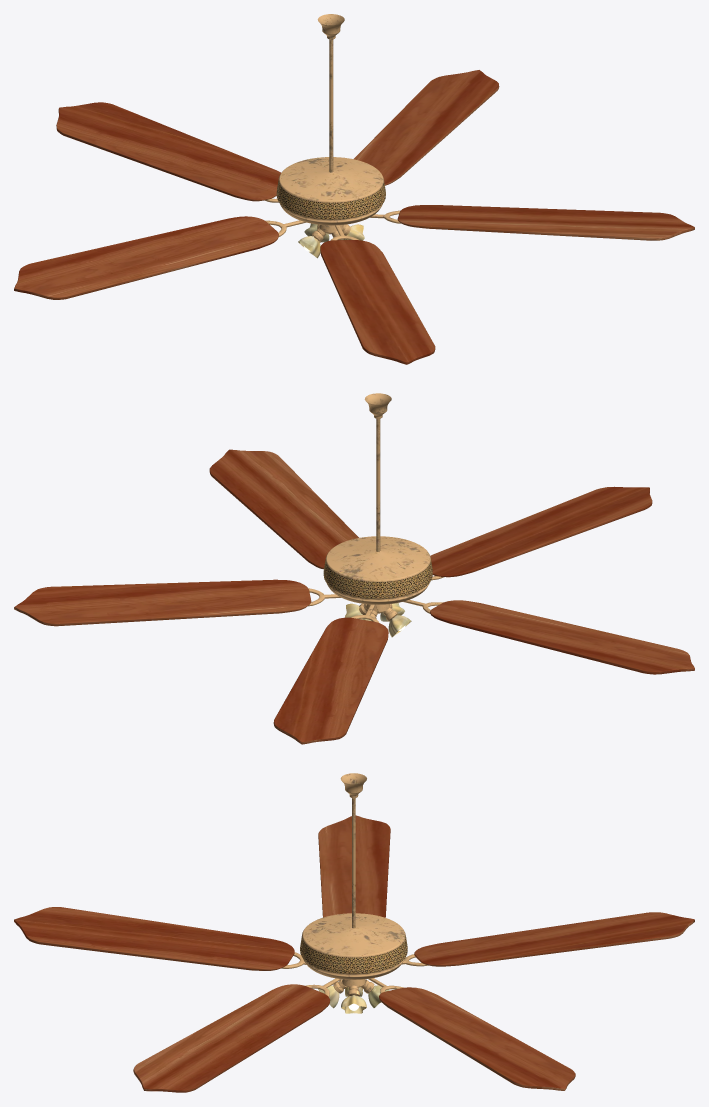
The model's file is ventilador.glb.
3 views of the same model, one above another, from view 1: azimuth 30°, elevation 25°; view 2: azimuth 150°, elevation 25°; view 3: azimuth 270°, elevation 25° (orthographic). The views are drawn at different scales.
Visible parts, largest first — view 1: polySurface3_lambert1_0, polySurface23, veentilador_techopCylinder28, BOBILLASpolySurface33; view 2: polySurface3_lambert1_0, polySurface23, veentilador_techopCylinder28, BOBILLASpolySurface33; view 3: polySurface3_lambert1_0, polySurface23, BOBILLASpolySurface33, veentilador_techopCylinder28.
Part boxes in pixels (x1=…): polySurface3_lambert1_0: x1=14, y1=70, x2=694, y2=364; polySurface23: x1=276, y1=157, x2=385, y2=225; veentilador_techopCylinder28: x1=317, y1=14, x2=344, y2=172; BOBILLASpolySurface33: x1=298, y1=223, x2=364, y2=258; polySurface3_lambert1_0: x1=14, y1=449, x2=694, y2=744; polySurface23: x1=323, y1=536, x2=432, y2=604; veentilador_techopCylinder28: x1=364, y1=393, x2=391, y2=551; BOBILLASpolySurface33: x1=345, y1=603, x2=411, y2=637; polySurface3_lambert1_0: x1=14, y1=815, x2=694, y2=1092; polySurface23: x1=300, y1=913, x2=407, y2=979; BOBILLASpolySurface33: x1=318, y1=979, x2=389, y2=1013; veentilador_techopCylinder28: x1=340, y1=773, x2=366, y2=928.
Size of the model in its own units: 2.37 by 0.9143 by 2.49.
2 materials, 2 textured.
